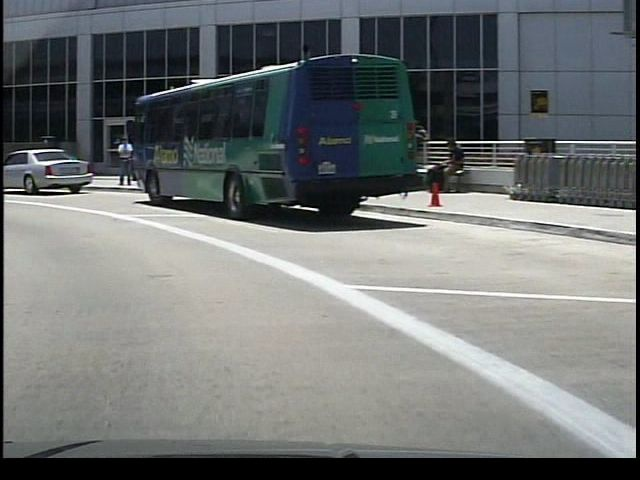person: (424, 133, 461, 198), (110, 135, 132, 187)
